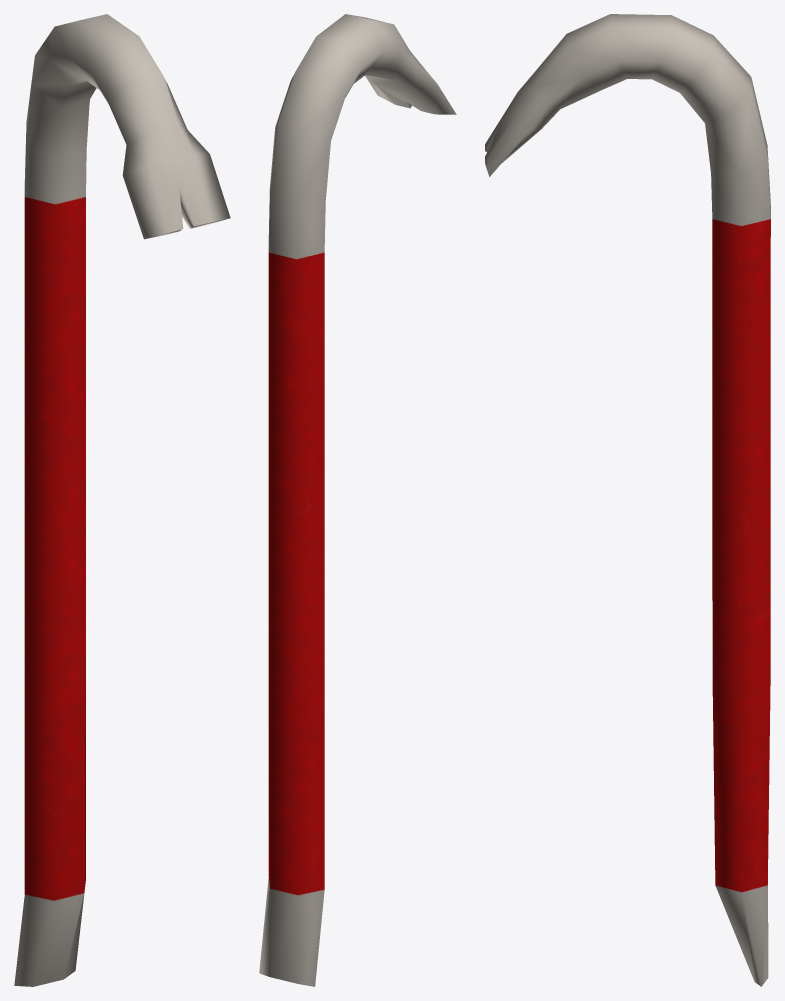
File: Crowbar.fbx
3 renders of one model, left to right at view 1: azimuth 30°, elevation 25°; view 2: azimuth 150°, elevation 25°; view 3: azimuth 270°, elevation 25°, orthographic. The views are drawn at different scales.
Parts seen in each view (by area): view 1: Crowbar; view 2: Crowbar; view 3: Crowbar.
Boxes of the visible parts, x1,y1,x2,y2 form: Crowbar: (14,14,230,986); Crowbar: (259,14,456,986); Crowbar: (485,14,770,986).
Bounding box in the file's own units: 0.0423 × 0.4626 × 0.1256.
